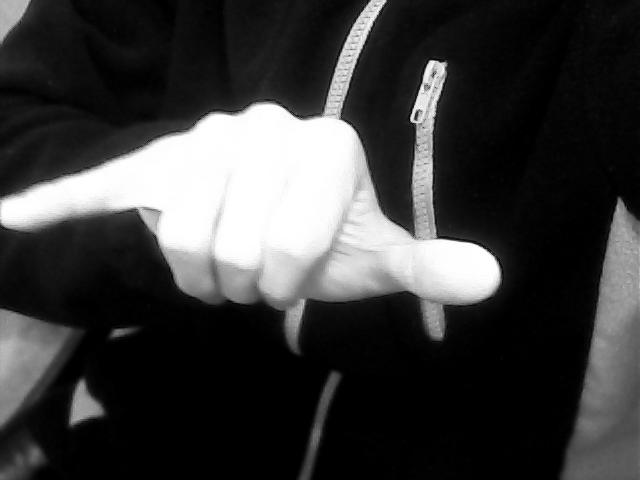aloha: (1, 94, 503, 312)
